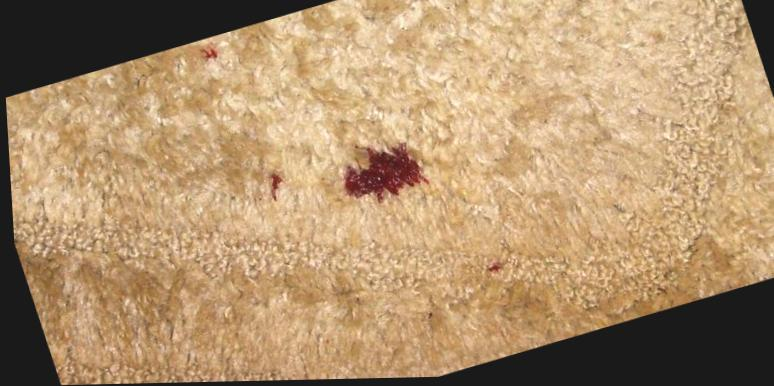Fire: (341, 143, 426, 206), (267, 176, 281, 203), (199, 49, 217, 60), (483, 267, 497, 274)
